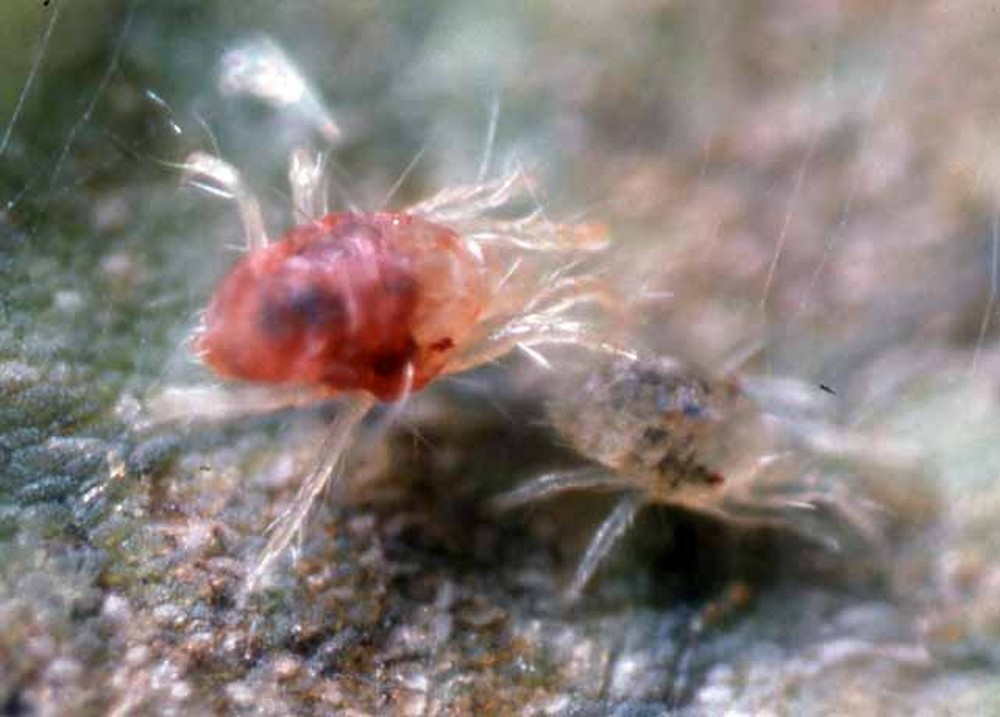Aracnido Rojo: (113, 125, 657, 519), (542, 314, 934, 608)
